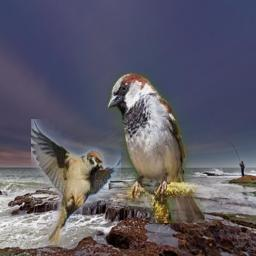Sparrow: (107, 72, 205, 223), (31, 119, 121, 247)
